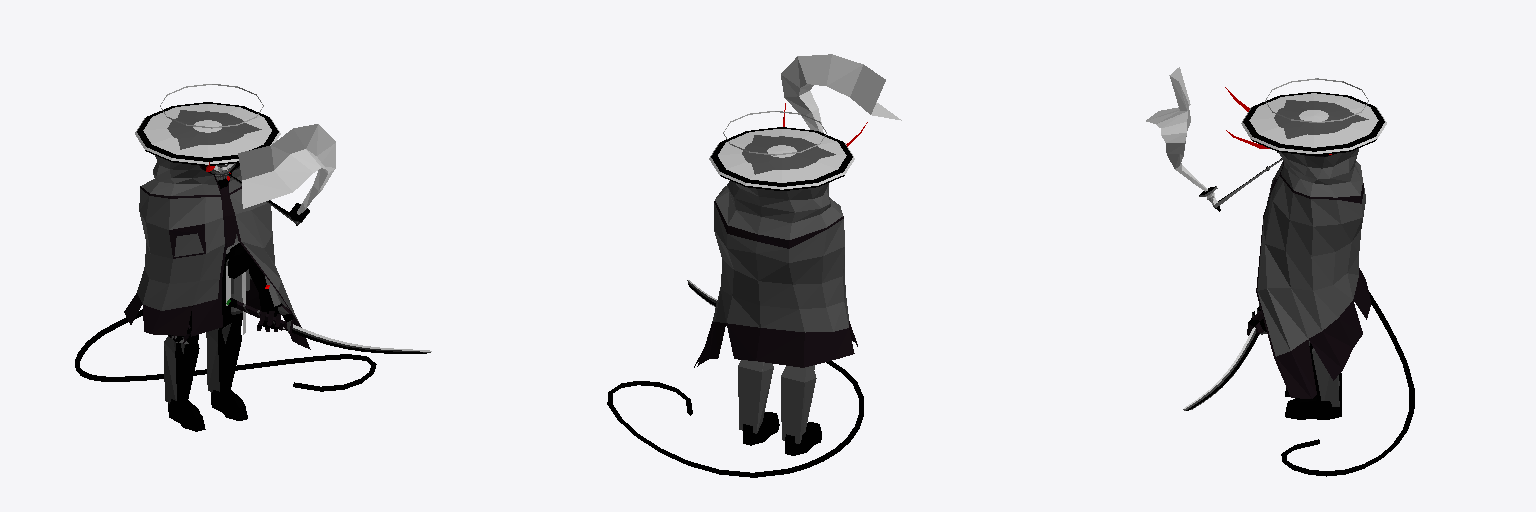
The model's file is KASA.obj.
The picture shows the model from 3 angles: view 1: azimuth 30°, elevation 25°; view 2: azimuth 150°, elevation 25°; view 3: azimuth 270°, elevation 25°; orthographic projection.
Parts seen in each view (by area): view 1: Circle.001, Circle, fake_smoke_BezierCurve, BezierCurve, Cube.004_Cube.005, Cube.006_Cube.005, Cube.031_Cube.038, Cube.007_Cube.027, Cube.011_Cube.012, Cube.003_Cube.004, Cube.035_Cube.064, Cube.001_Cube.024; view 2: Circle.001, Circle, fake_smoke_BezierCurve, BezierCurve, Cube.006_Cube.005, Cube.004_Cube.005, Cube.007_Cube.027, Cube.011_Cube.012; view 3: Circle.001, Circle, fake_smoke_BezierCurve, BezierCurve, Cube.011_Cube.012, Cube.004_Cube.005, Cube.031_Cube.038.
Part boxes in pixels (left/top/right/bottom): Circle.001: left=124, top=155, right=310, bottom=349; Circle: left=135, top=102, right=280, bottom=165; fake_smoke_BezierCurve: left=238, top=124, right=335, bottom=214; BezierCurve: left=75, top=309, right=376, bottom=391; Cube.004_Cube.005: left=206, top=321, right=241, bottom=392; Cube.006_Cube.005: left=164, top=334, right=199, bottom=403; Cube.031_Cube.038: left=226, top=298, right=431, bottom=353; Cube.007_Cube.027: left=168, top=399, right=205, bottom=431; Cube.011_Cube.012: left=211, top=388, right=247, bottom=420; Cube.003_Cube.004: left=222, top=259, right=249, bottom=326; Cube.035_Cube.064: left=249, top=255, right=280, bottom=309; Cube.001_Cube.024: left=228, top=243, right=248, bottom=278; Circle.001: left=694, top=181, right=857, bottom=367; Circle: left=709, top=127, right=854, bottom=190; fake_smoke_BezierCurve: left=781, top=54, right=901, bottom=132; BezierCurve: left=607, top=361, right=863, bottom=477; Cube.006_Cube.005: left=781, top=365, right=816, bottom=443; Cube.004_Cube.005: left=738, top=360, right=773, bottom=433; Cube.007_Cube.027: left=785, top=422, right=821, bottom=455; Cube.011_Cube.012: left=743, top=412, right=779, bottom=445; Circle.001: left=1256, top=148, right=1370, bottom=398; Circle: left=1241, top=92, right=1386, bottom=155; fake_smoke_BezierCurve: left=1146, top=67, right=1207, bottom=191; BezierCurve: left=1281, top=292, right=1414, bottom=476; Cube.011_Cube.012: left=1285, top=394, right=1341, bottom=419; Cube.004_Cube.005: left=1308, top=339, right=1339, bottom=406; Cube.031_Cube.038: left=1183, top=322, right=1263, bottom=410.
Size of the model in its own units: 1.86 by 2.18 by 1.59.